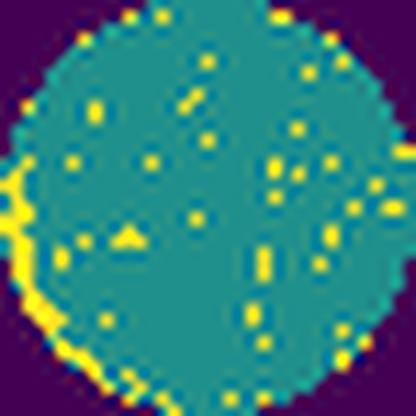Edge-Loc: (0, 150, 123, 416)
